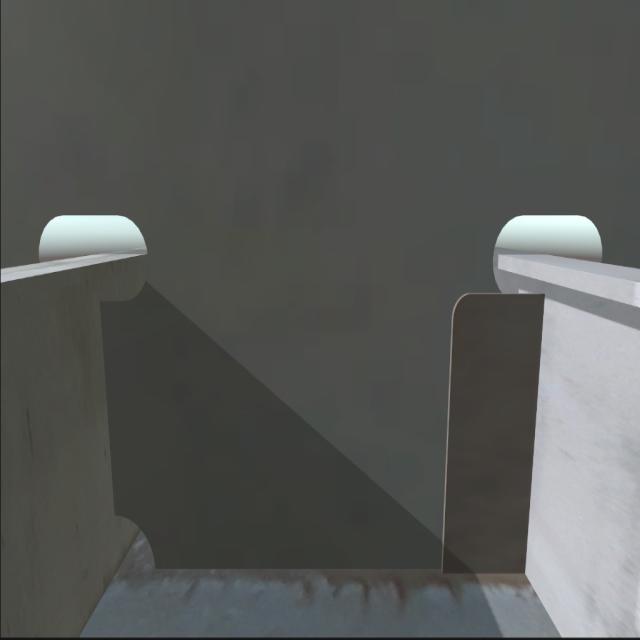fillet_hole: (116, 518, 155, 572)
fillet_yong_jeop_jang: (151, 554, 526, 584)
longi_yong_jeop_jang: (519, 286, 550, 574), (95, 297, 124, 518)
plate_CP05: (448, 290, 530, 572)
